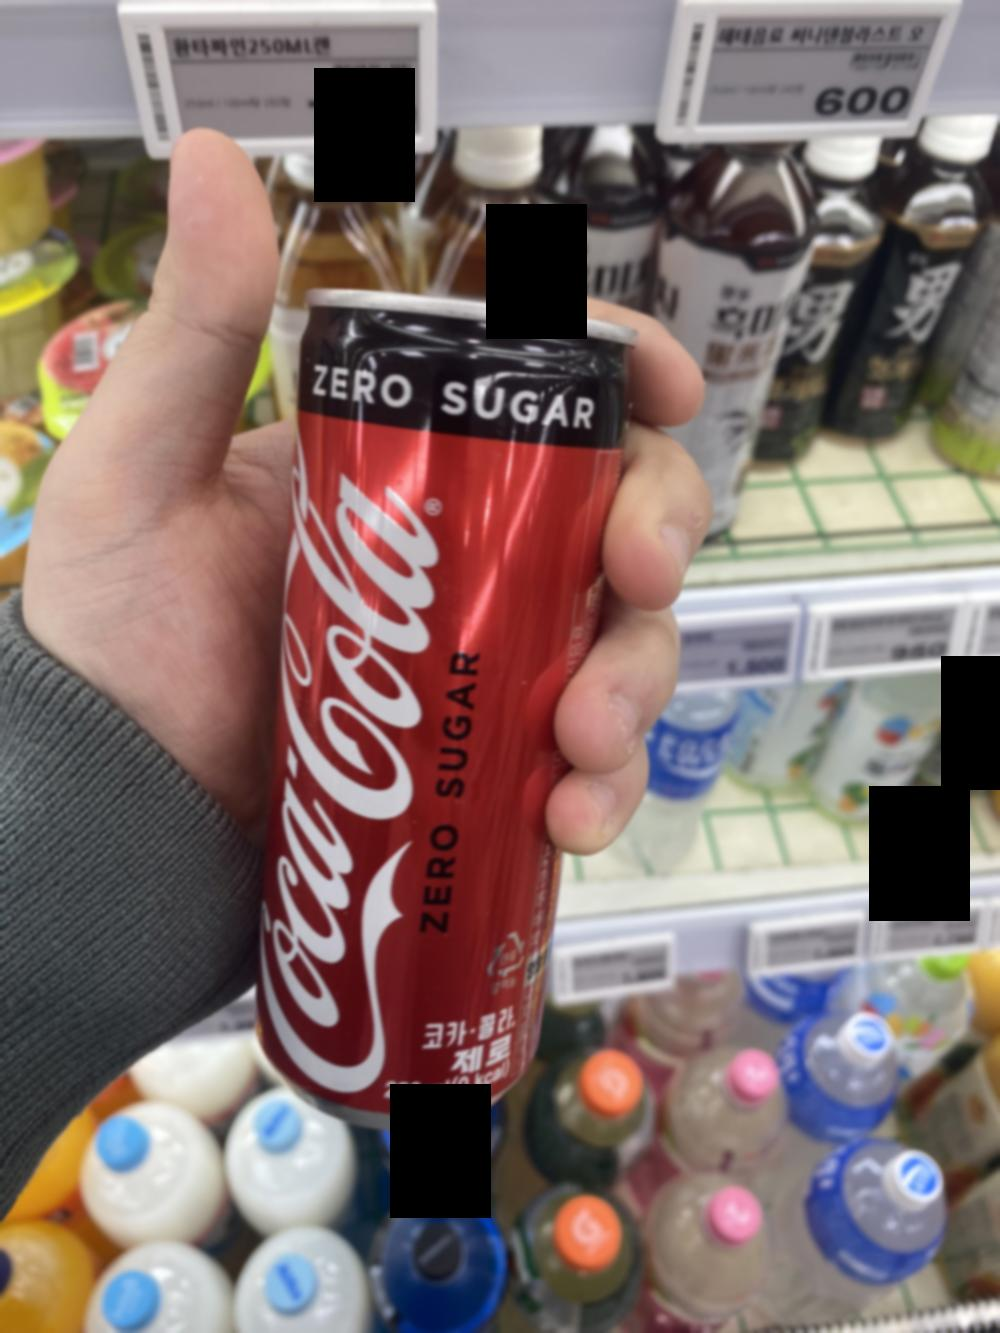cocacola_zero: (266, 287, 638, 1136)
